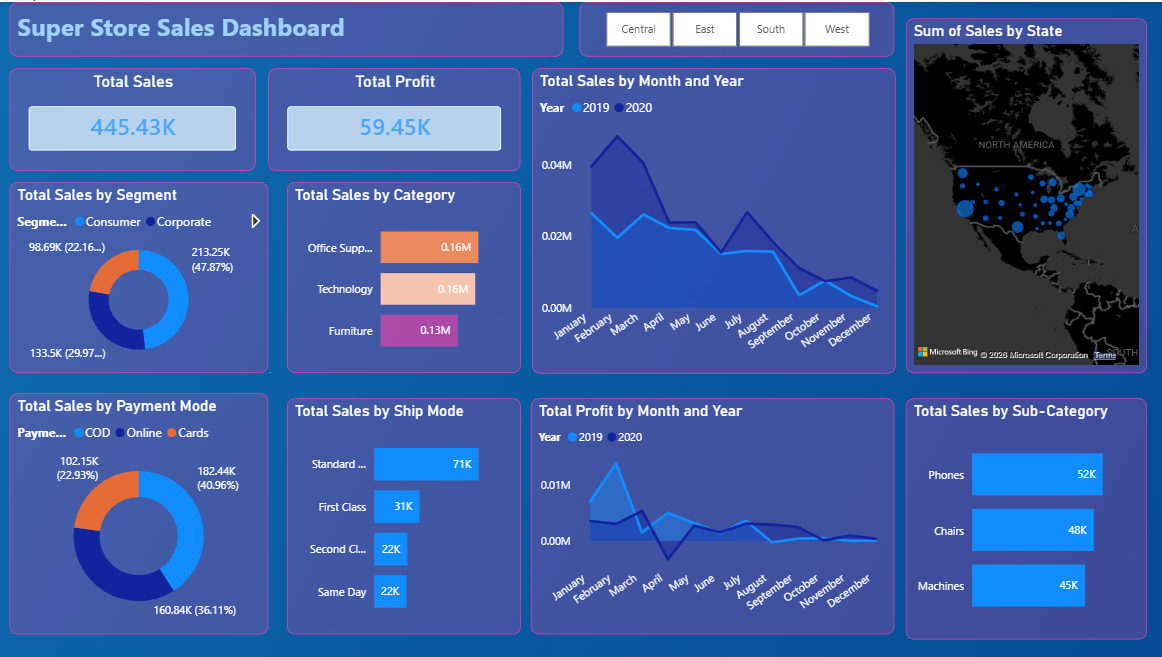

The page's visual inventory and layout, read from the dashboard file:
{"tool":"powerbi","page":{"name":"Page 1","canvas":[1280,720],"ordinal":0},"visuals":[{"type":"clusteredBarChart","title":"Total Sales by Category","fields":{"Category":["SuperStore_Sales_Dataset.Category"],"Y":["Sum(SuperStore_Sales_Dataset.Sales)"]},"box":[318.4,197.6,256.6,209.9],"z":0},{"type":"clusteredBarChart","title":"Total Sales by Sub-Category","fields":{"Y":["Sum(SuperStore_Sales_Dataset.Sales)"],"Category":["SuperStore_Sales_Dataset.Sub-Category"]},"box":[997.6,435,264.8,264.8],"z":1000},{"type":"clusteredBarChart","title":"Total Sales by Ship Mode","fields":{"Y":["Sum(SuperStore_Sales_Dataset.Sales)"],"Category":["SuperStore_Sales_Dataset.Ship Mode"]},"box":[318.4,435,256.6,259.3],"z":2000},{"type":"areaChart","title":"Total Sales by Month and Year","fields":{"Category":["SuperStore_Sales_Dataset.Order Date.Variation.Date Hierarchy.Month"],"Y":["Sum(SuperStore_Sales_Dataset.Sales)"],"Series":["SuperStore_Sales_Dataset.Order Date.Variation.Date Hierarchy.Year"]},"box":[587.3,72.7,399.3,334.8],"z":3000},{"type":"areaChart","title":"Total Profit by Month and Year","fields":{"Category":["SuperStore_Sales_Dataset.Order Date.Variation.Date Hierarchy.Month"],"Series":["SuperStore_Sales_Dataset.Order Date.Variation.Date Hierarchy.Year"],"Y":["Sum(SuperStore_Sales_Dataset.Profit)"]},"box":[585.9,435,399.3,259.3],"z":4000},{"type":"map","fields":{"Category":["SuperStore_Sales_Dataset.State"],"Size":["Sum(SuperStore_Sales_Dataset.Sales)"]},"box":[997.6,17.8,264.8,389.7],"z":5000},{"type":"donutChart","title":"Total Sales by Segment","fields":{"Y":["Sum(SuperStore_Sales_Dataset.Sales)"],"Category":["SuperStore_Sales_Dataset.Segment"]},"box":[13.7,197.6,284,209.9],"z":6000},{"type":"donutChart","title":"Total Sales by Payment Mode","fields":{"Y":["Sum(SuperStore_Sales_Dataset.Sales)"],"Category":["SuperStore_Sales_Dataset.Payment Mode"]},"box":[13.7,429.5,284,264.8],"z":7000},{"type":"slicer","fields":{"Values":["SuperStore_Sales_Dataset.Region"]},"box":[639.5,0,345.8,60.4],"z":8000},{"type":"textbox","box":[13.7,0,607.9,60.4],"z":9000},{"type":"cardVisual","title":"Total Sales","fields":{"Data":["Sum(SuperStore_Sales_Dataset.Sales)"]},"box":[13.7,72.7,270.3,112.5],"z":10000},{"type":"cardVisual","title":"Total Profit","fields":{"Data":["Sum(SuperStore_Sales_Dataset.Profit)"]},"box":[297.8,72.7,277.2,112.5],"z":11000}]}

Visuals, with their boxes in screenshot pixels (x1, y1, x2, y2), scaled from the page's 1280x720 canvas onto the 1162x657 screenshot:
"Total Sales by Category" clusteredBarChart: <region>289, 180, 522, 372</region>
"Total Sales by Sub-Category" clusteredBarChart: <region>906, 397, 1146, 639</region>
"Total Sales by Ship Mode" clusteredBarChart: <region>289, 397, 522, 634</region>
"Total Sales by Month and Year" areaChart: <region>533, 66, 896, 372</region>
"Total Profit by Month and Year" areaChart: <region>532, 397, 894, 634</region>
map - SuperStore_Sales_Dataset.State x Sum(SuperStore_Sales_Dataset.Sales): <region>906, 16, 1146, 372</region>
"Total Sales by Segment" donutChart: <region>12, 180, 270, 372</region>
"Total Sales by Payment Mode" donutChart: <region>12, 392, 270, 634</region>
slicer - SuperStore_Sales_Dataset.Region: <region>581, 0, 894, 55</region>
textbox: <region>12, 0, 564, 55</region>
"Total Sales" cardVisual: <region>12, 66, 258, 169</region>
"Total Profit" cardVisual: <region>270, 66, 522, 169</region>
